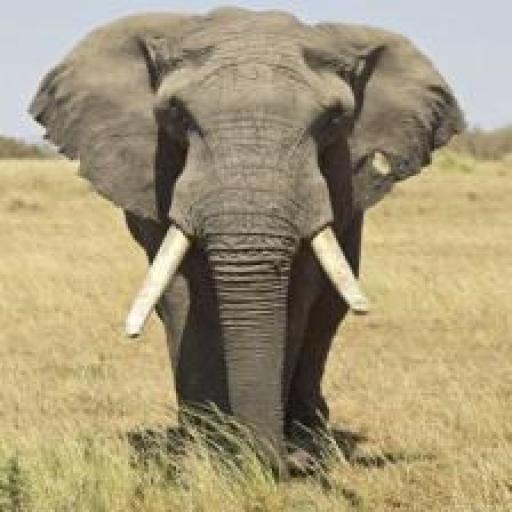Elephant: (18, 5, 471, 482)
